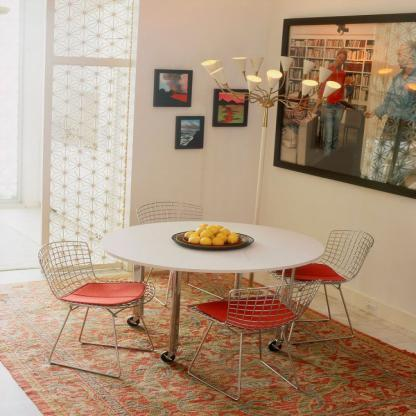chair: (189, 279, 325, 402), (137, 197, 239, 302), (294, 218, 376, 343)
light: (187, 47, 341, 219)
table: (110, 218, 325, 379)
